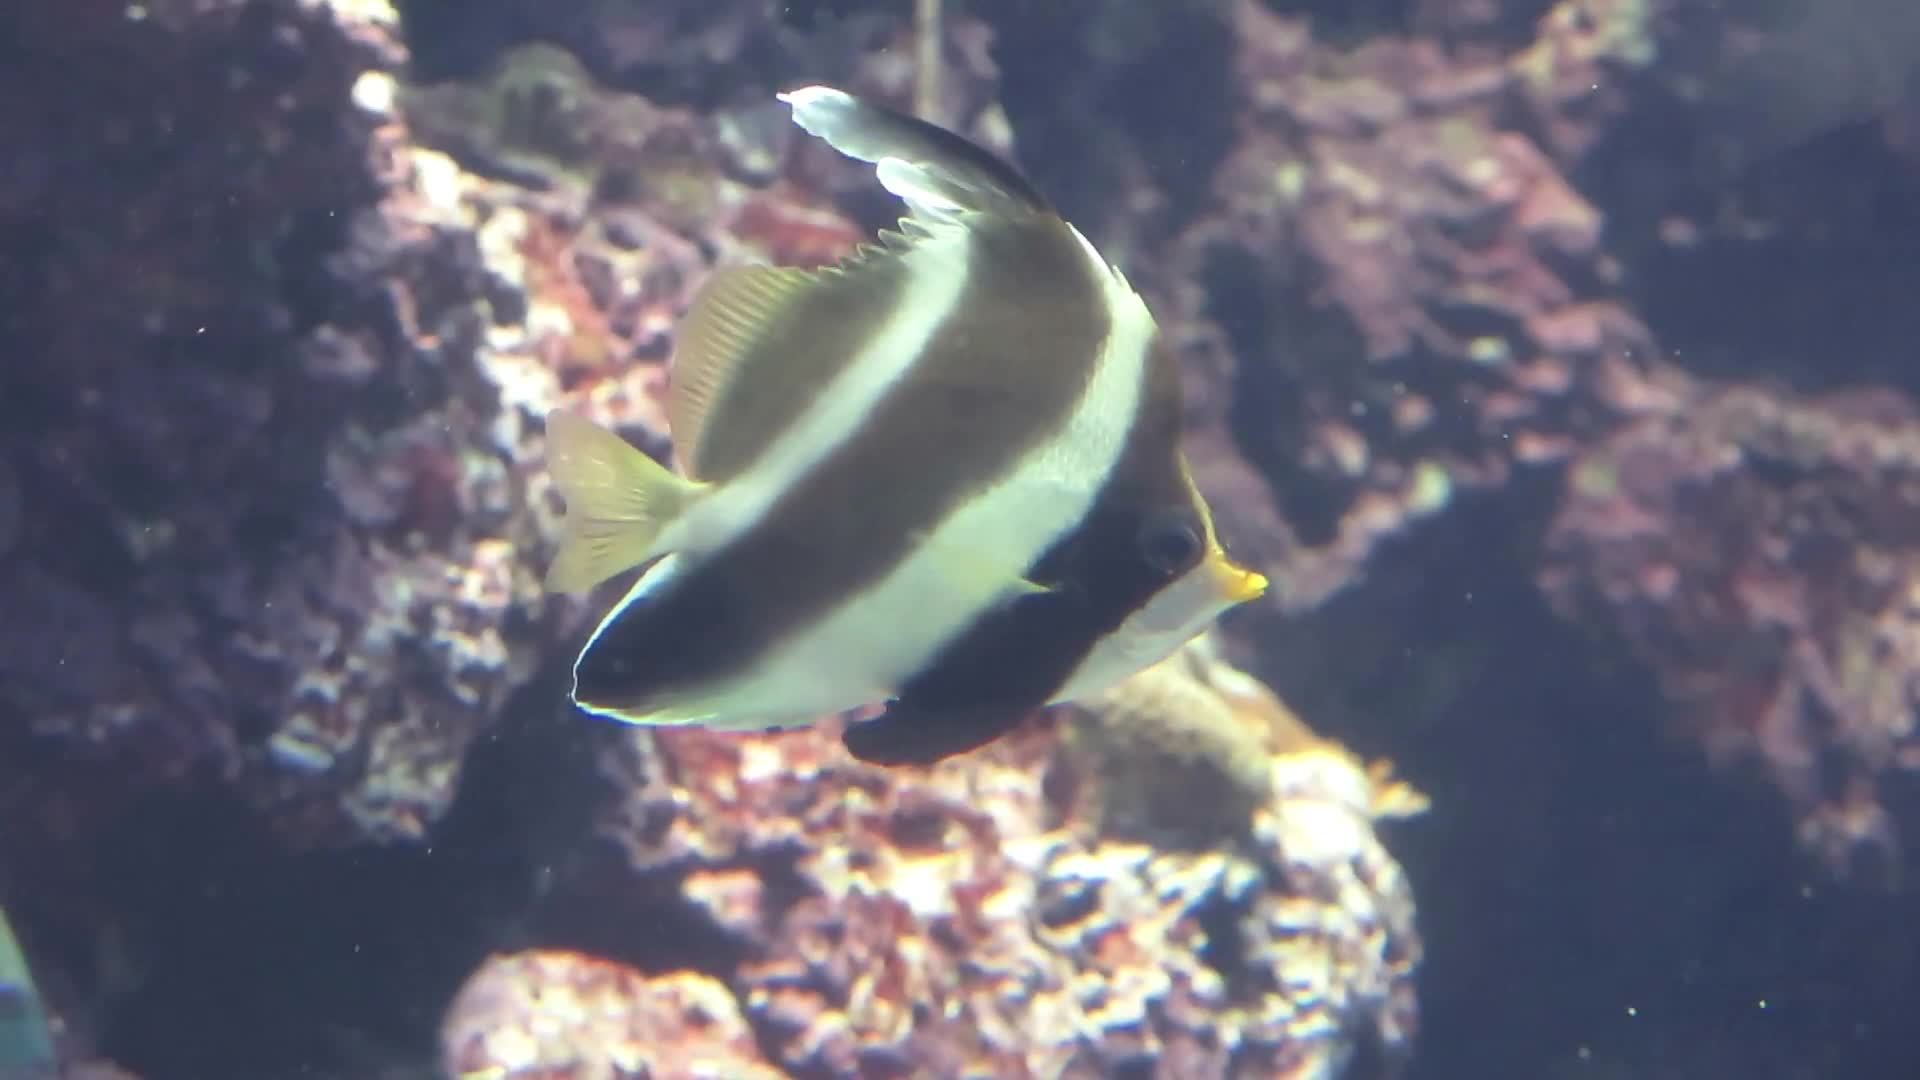Heniochus chrysostomus: (541, 34, 1299, 807)
